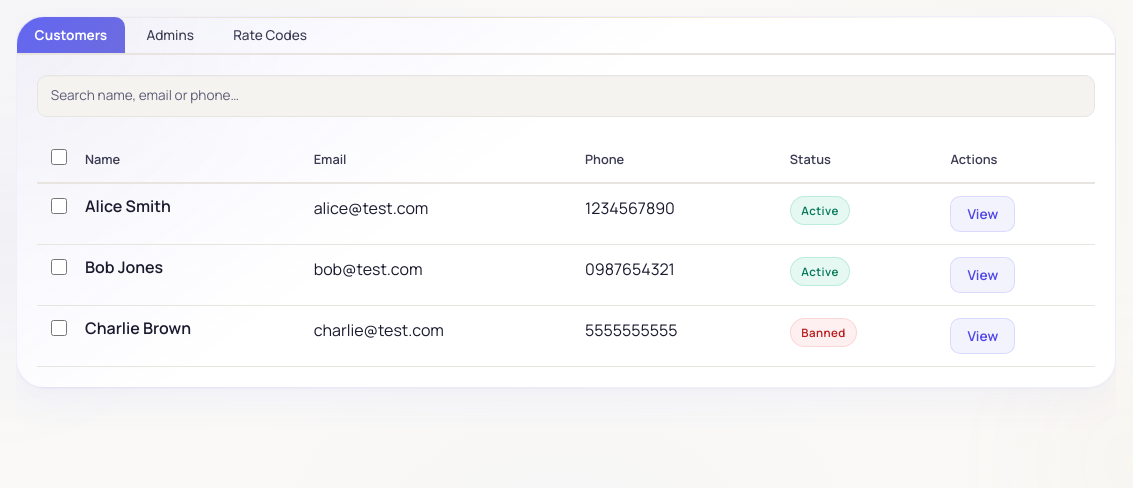
Test: AdminUsersConfig Page › shows checkboxes and selects individual customers
Check: the text "Alice Smith" is shown, box [85,195,171,217]
Click the checkbox in the row of "Smith" at {"x": 59, "y": 206}, box [51,198,67,214]
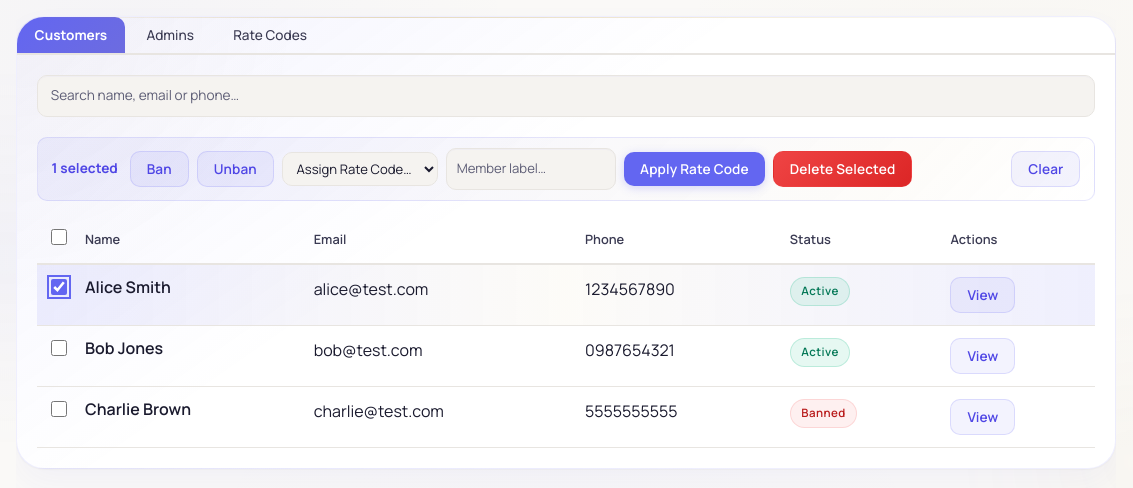
Check: the text "1 selected" is shown, box [52,158,118,180]
